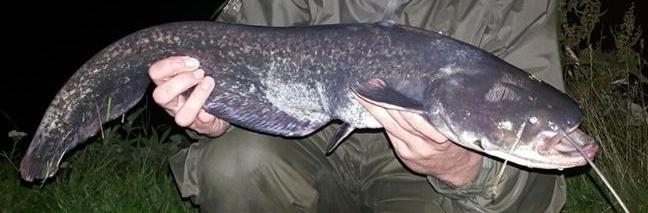Catfish: (23, 17, 599, 181)
